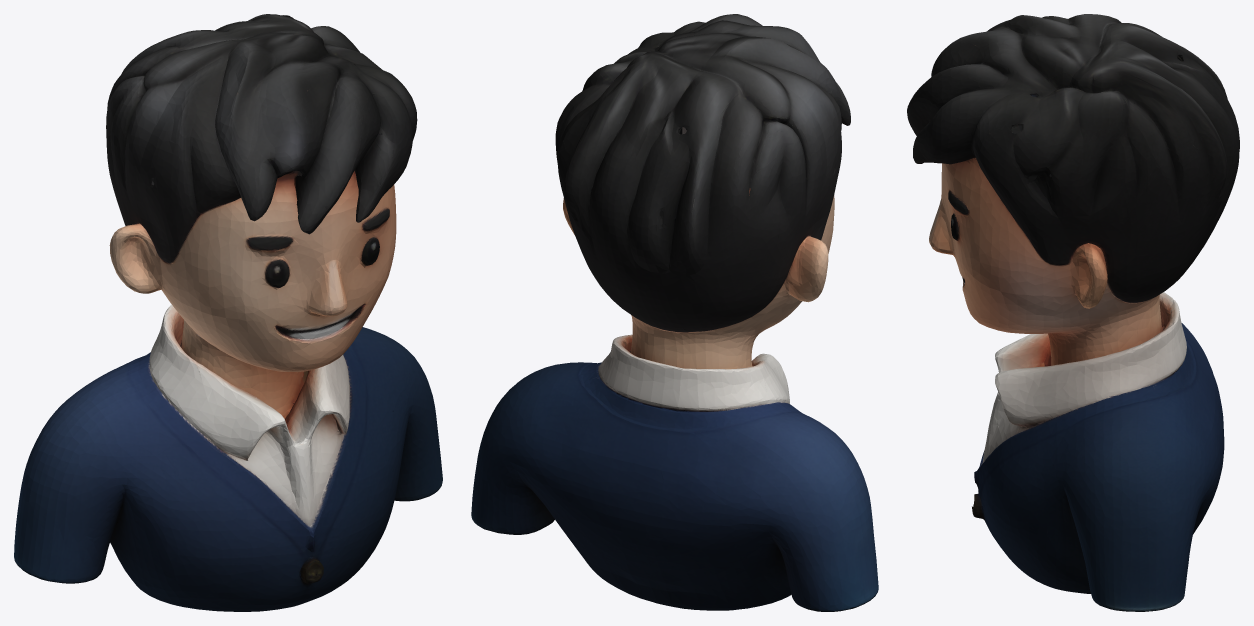
Rendered from ha-min-avatar.glb.
The picture shows the model from 3 angles, left to right: view 1: azimuth 30°, elevation 25°; view 2: azimuth 150°, elevation 25°; view 3: azimuth 270°, elevation 25°; orthographic projection. The views are drawn at different scales.
Visible parts, largest first — view 1: world; view 2: world; view 3: world.
Boxes of the visible parts, x1=… form: world: x1=14, y1=14, x2=442, y2=611; world: x1=471, y1=14, x2=878, y2=611; world: x1=907, y1=14, x2=1239, y2=611.
Size of the model in its own units: 0.7359 by 0.9417 by 0.5437.
1 material, 1 textured.
